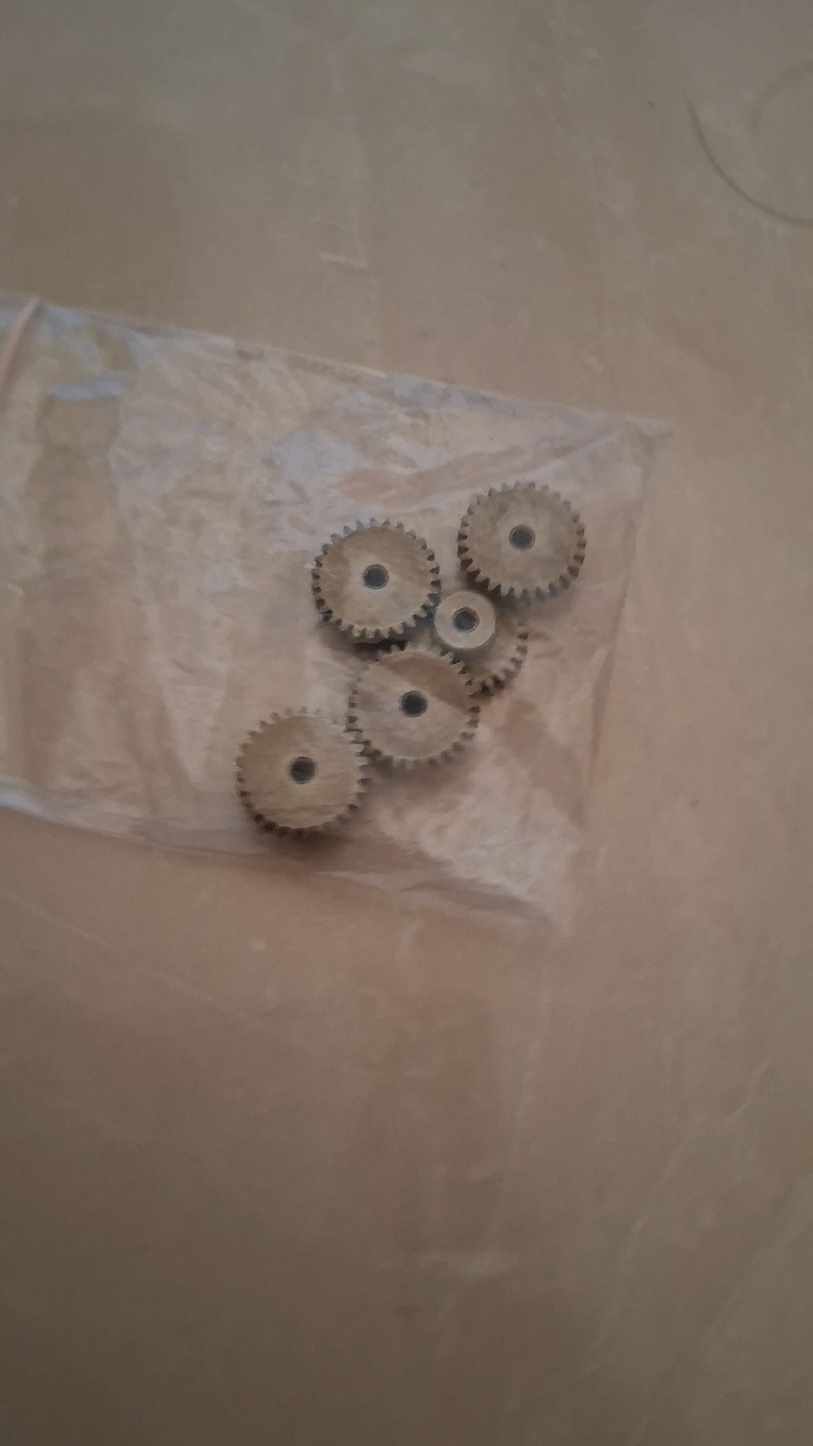spur gear: (236, 710, 368, 833), (350, 643, 478, 767), (312, 521, 440, 642), (458, 482, 586, 601), (467, 607, 528, 694)
